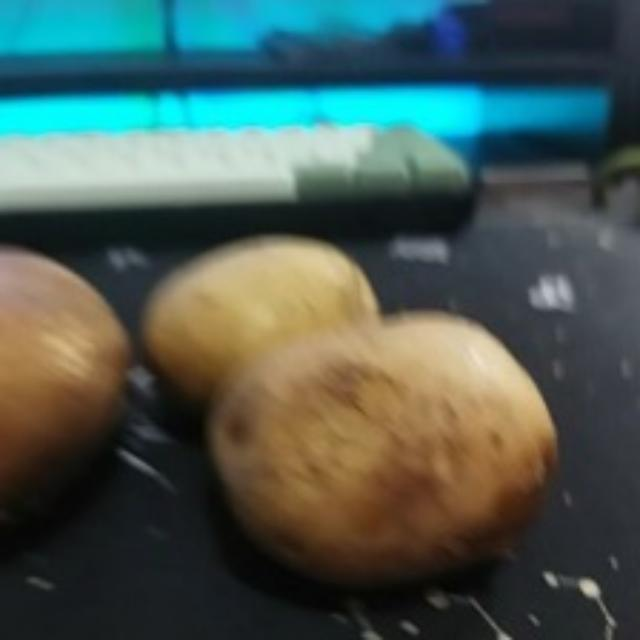Damaged potato: (203, 295, 569, 591), (0, 236, 134, 518)
Potato: (140, 230, 398, 414)
